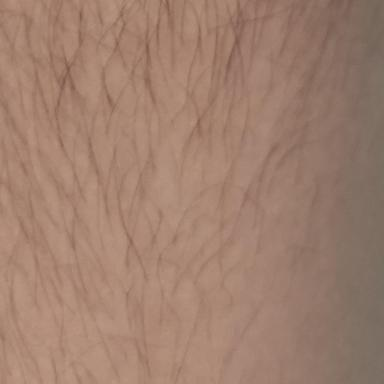normal skin: (0, 2, 384, 383)
